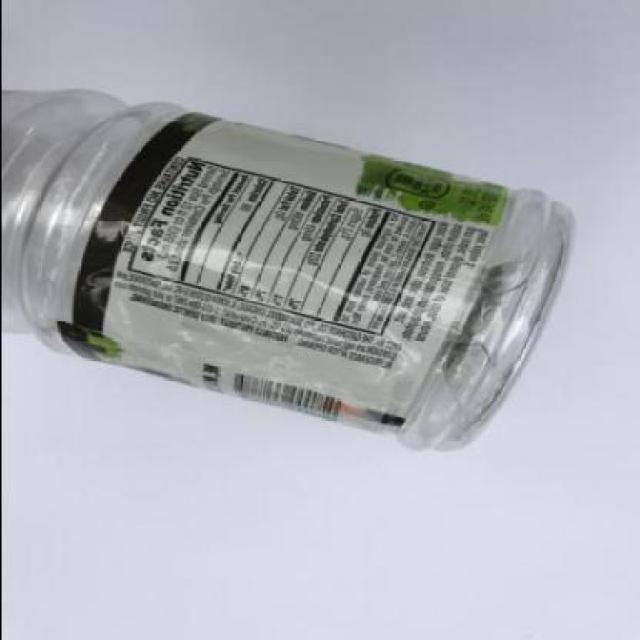PLASTIC: (2, 90, 572, 448), (56, 112, 509, 438)
